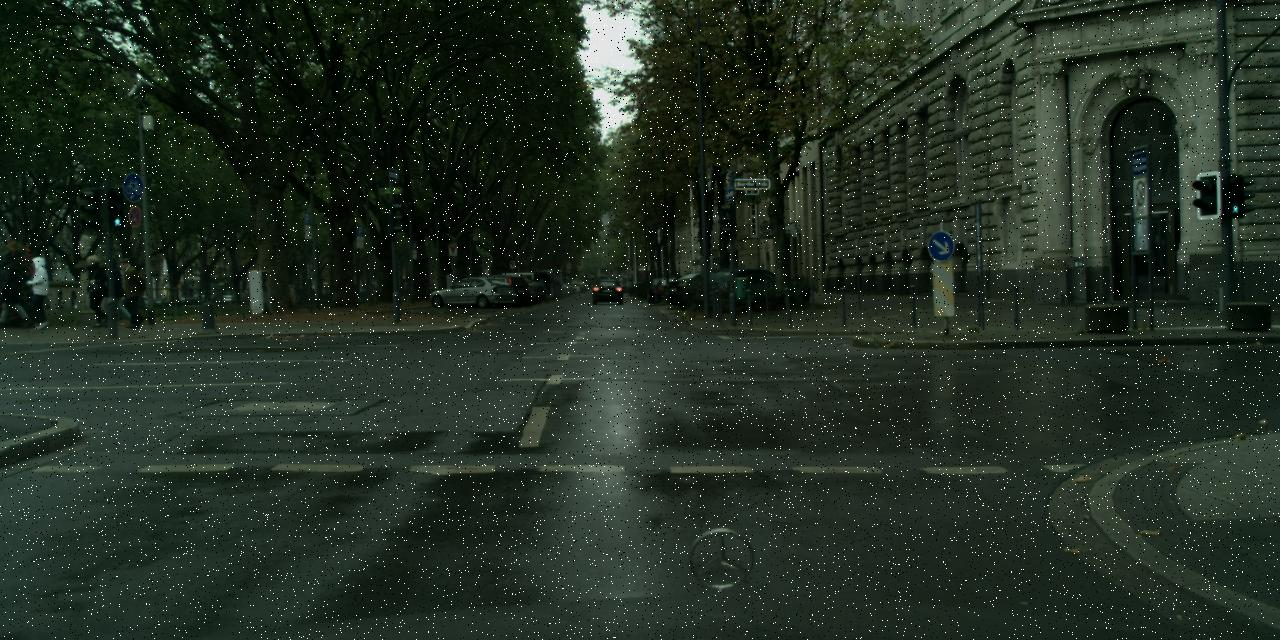ped: (25, 255, 54, 328), (82, 254, 111, 326), (117, 258, 145, 328), (0, 250, 25, 328), (103, 258, 130, 326)
